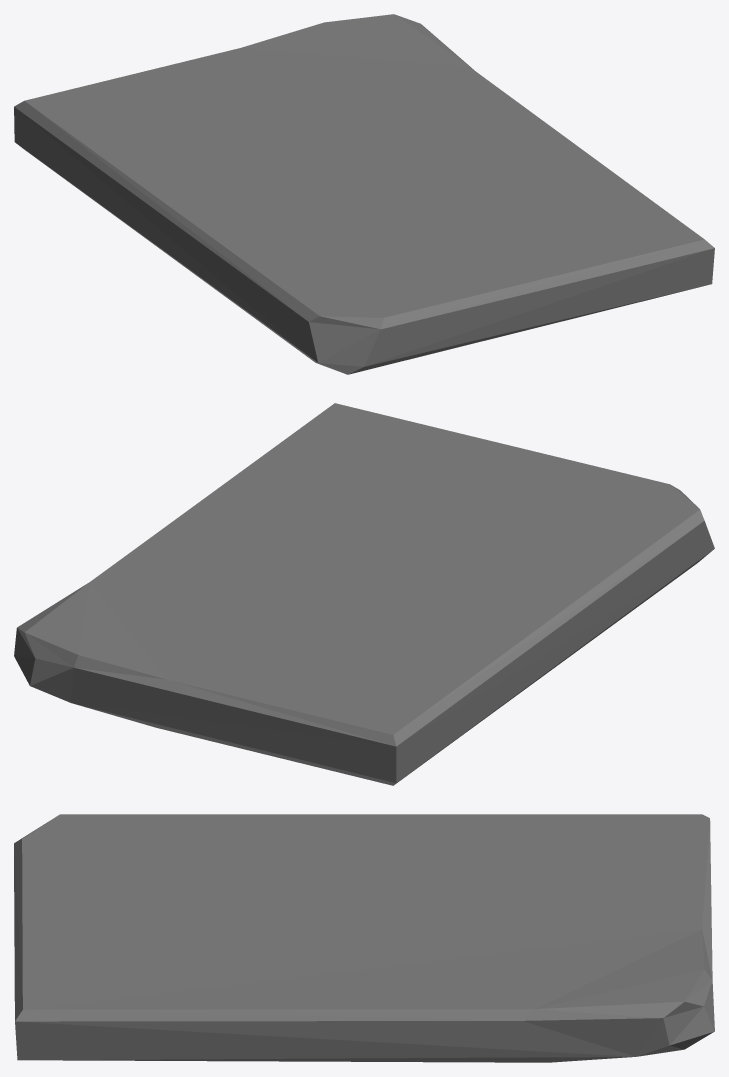
The model's file is Tile_01.fbx.
3 views of the same model, one above another, from view 1: azimuth 30°, elevation 25°; view 2: azimuth 150°, elevation 25°; view 3: azimuth 270°, elevation 25° (orthographic). The views are drawn at different scales.
Parts seen in each view (by area): view 1: Tile_01; view 2: Tile_01; view 3: Tile_01.
Part boxes in pixels (left/top/right/bottom): Tile_01: left=14, top=14, right=714, bottom=374; Tile_01: left=14, top=403, right=714, bottom=785; Tile_01: left=14, top=814, right=714, bottom=1062.
Bounding box in the file's own units: 1.5 × 0.1972 × 2.17.
